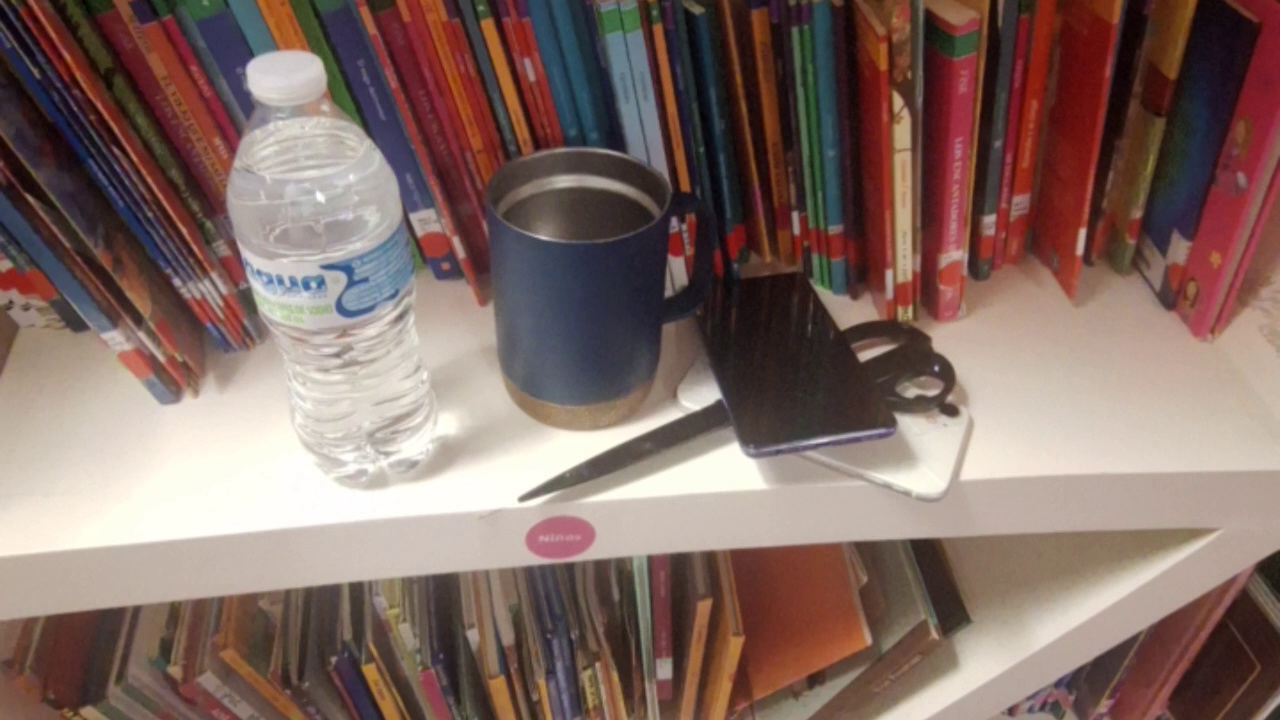botella: (226, 50, 442, 490)
taza: (482, 146, 708, 429)
